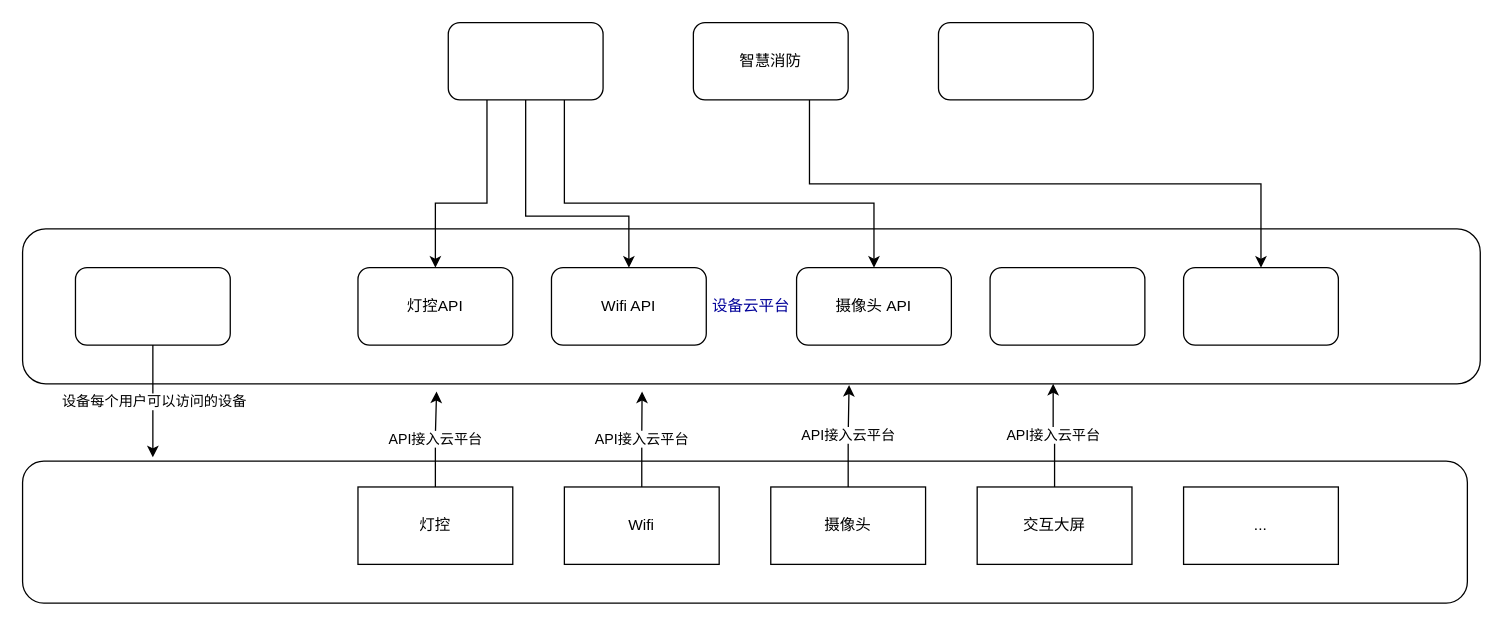
Image size: 1503x626. Some labels were removed from this diagram. The shapes that lost their labels are listed below. From the top down, each one's box as (x1, y1, x2, y2) in pixels, then its label:
(447, 21, 603, 100): 城市智慧灯杆
(937, 21, 1093, 100): 智慧能源
(74, 266, 230, 345): 统一身份认证中心
(989, 266, 1145, 345): 交互大屏API
(1182, 266, 1338, 345): 其它设备的API
